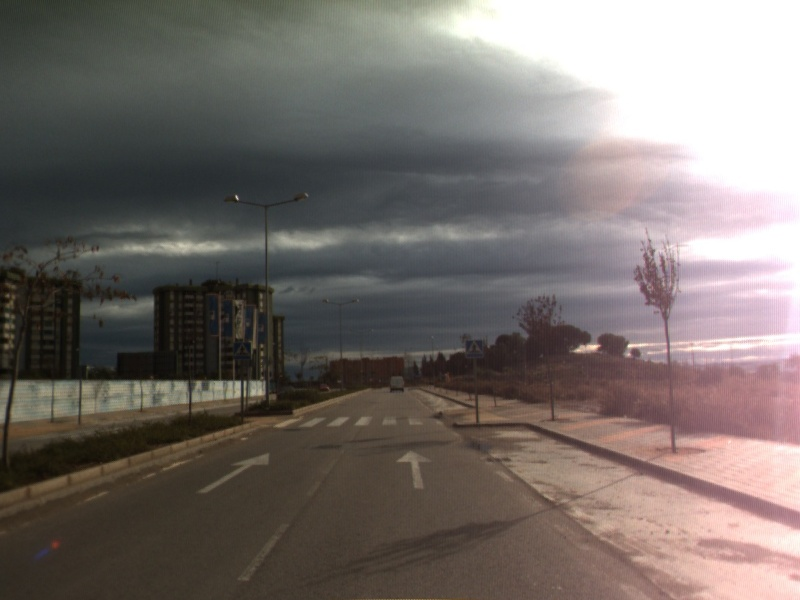STRAIGHT: (195, 451, 271, 495), (394, 448, 435, 491)
